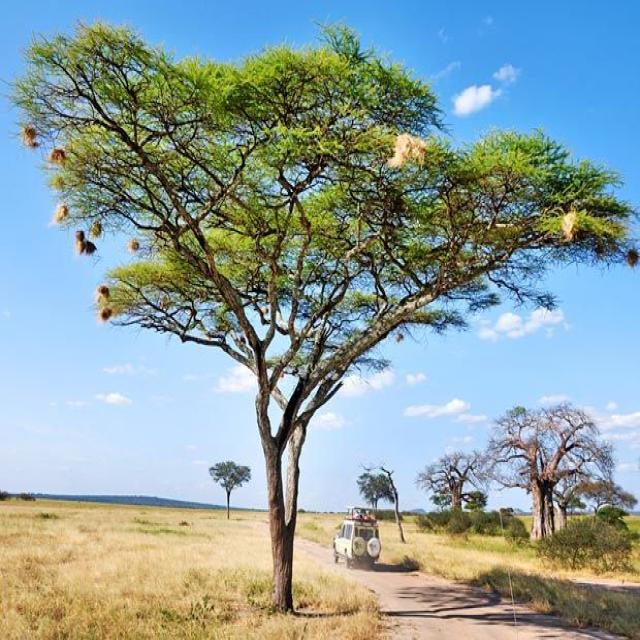Acacia: (17, 53, 600, 513)
